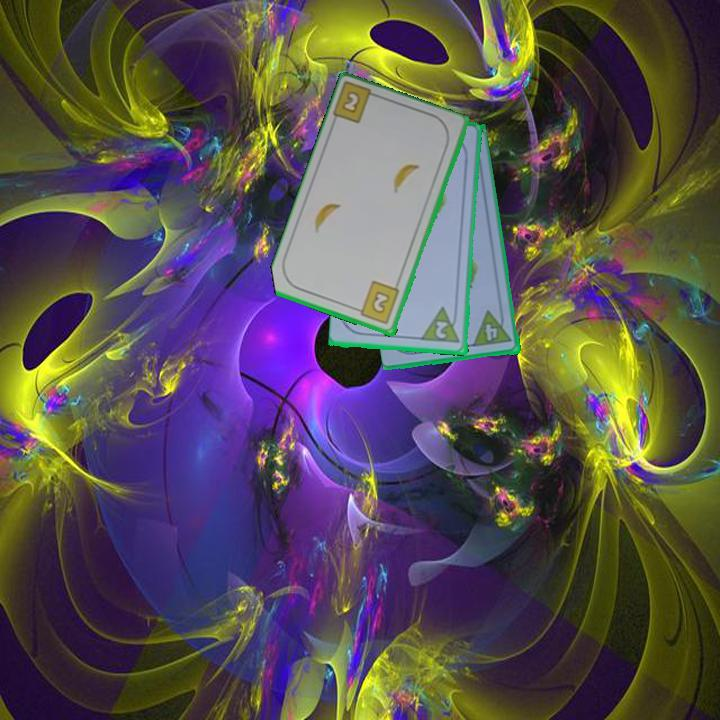2b: (352, 278, 403, 327), (338, 88, 363, 117)
2p: (432, 317, 451, 342)
4p: (470, 306, 515, 350)
